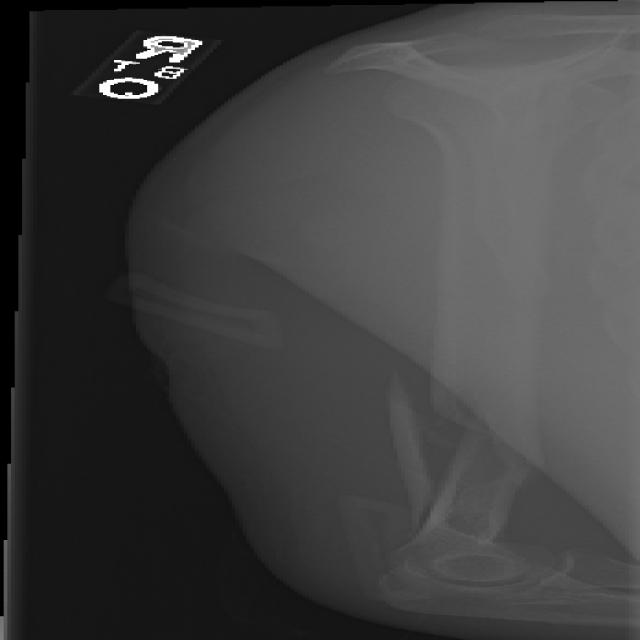humerus fracture: (346, 362, 587, 522)
